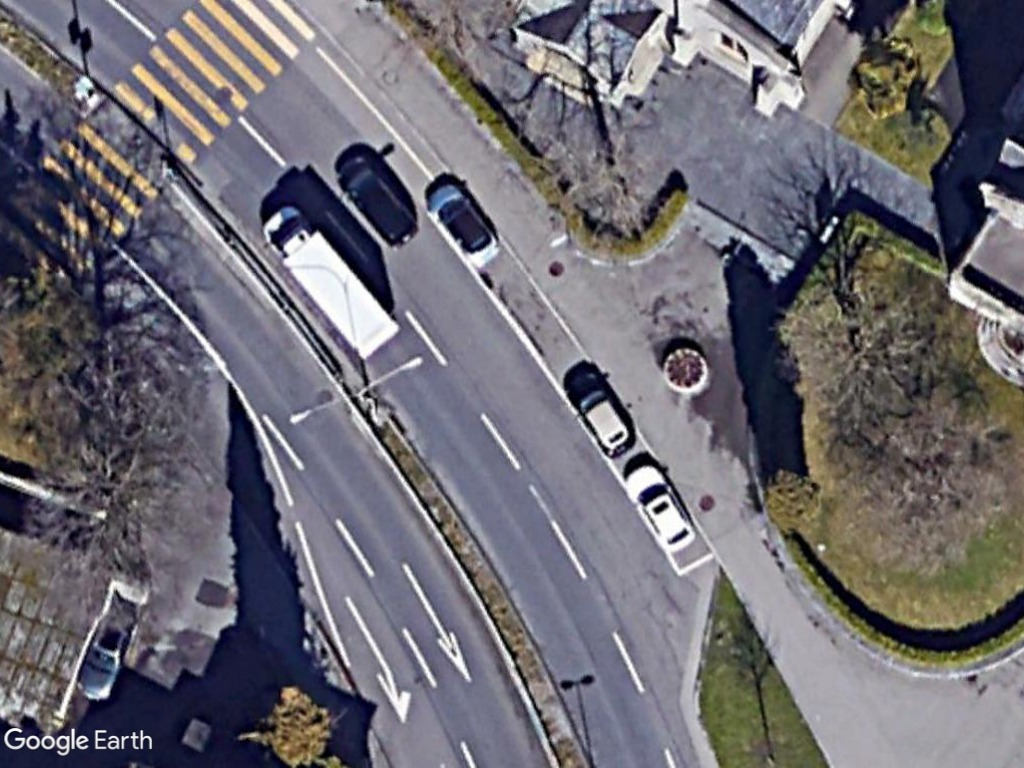car: (335, 152, 424, 254), (561, 361, 641, 461), (621, 466, 701, 560), (425, 180, 504, 269)
truck: (258, 200, 406, 363)
